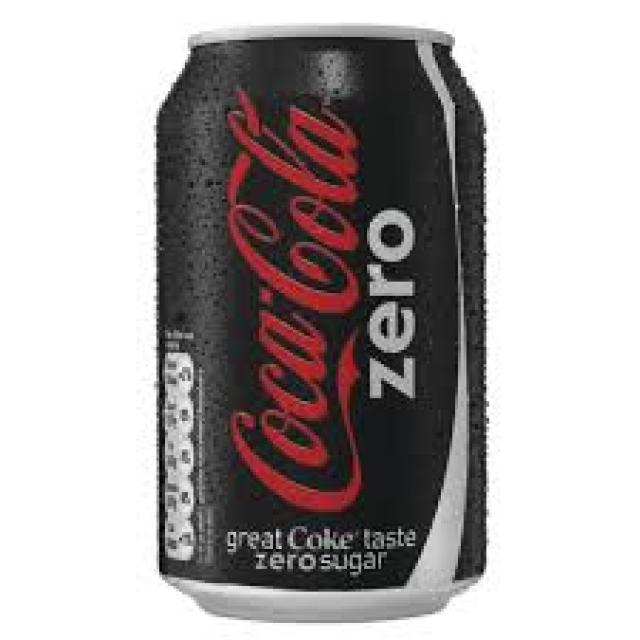metal: (154, 23, 487, 617)
